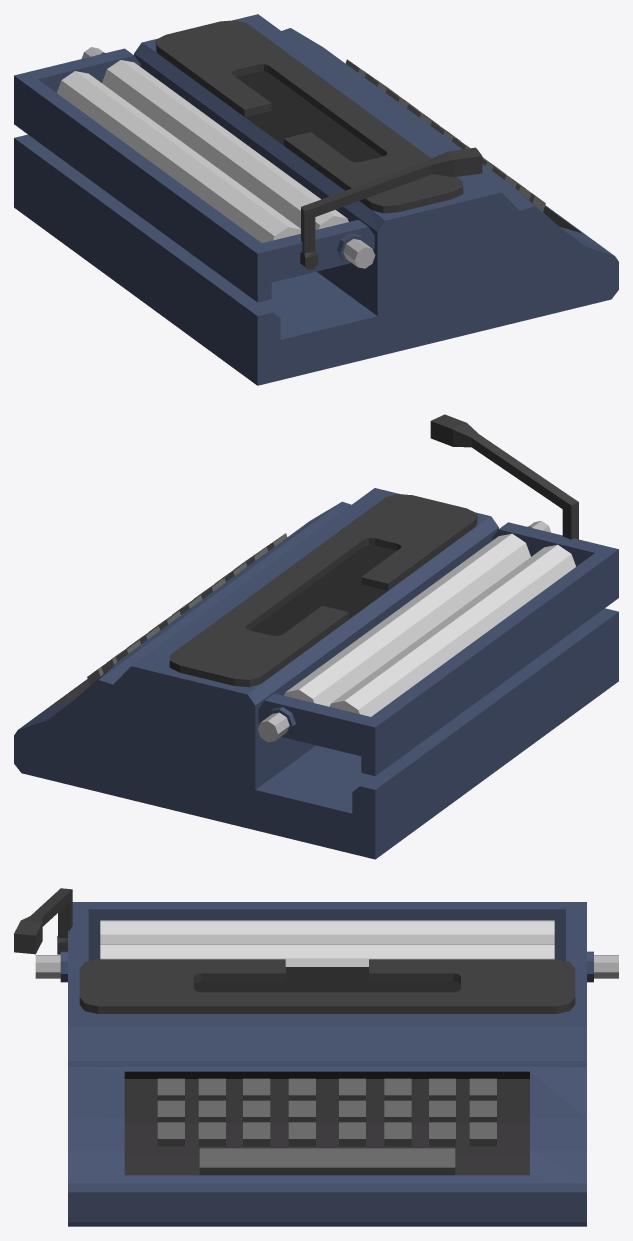
File: SM_Typewriter_01.glb
The picture shows the model from 3 angles, top to bottom: view 1: azimuth 30°, elevation 25°; view 2: azimuth 150°, elevation 25°; view 3: azimuth 270°, elevation 25°; orthographic projection. The views are drawn at different scales.
Visible parts, largest first — view 1: SM_Typewriter_01; view 2: SM_Typewriter_01; view 3: SM_Typewriter_01.
Part boxes in pixels (bbox=[...]): SM_Typewriter_01: bbox=[14, 14, 618, 385]; SM_Typewriter_01: bbox=[14, 414, 618, 859]; SM_Typewriter_01: bbox=[14, 888, 618, 1226].
Size of the model in its own units: 0.3289 by 0.1737 by 0.4476.
1 material, 1 textured.
